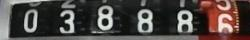digits: (174, 8, 194, 36), (214, 12, 234, 38), (59, 10, 78, 36), (96, 4, 113, 30), (136, 8, 153, 33), (23, 8, 38, 32)
